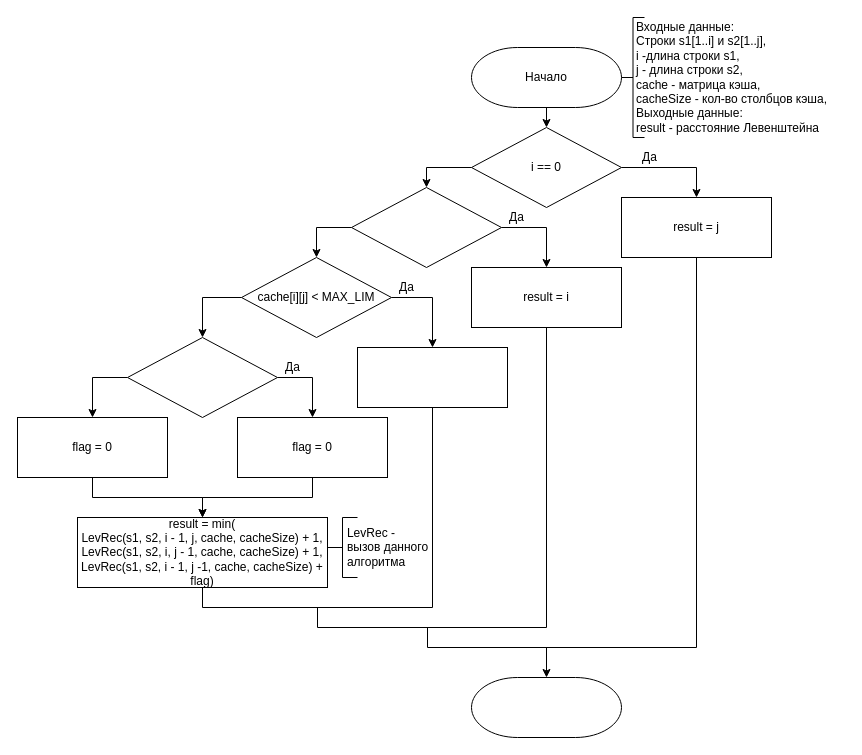
This 862x755 diagram has some shape labels left out. Each missing label, with the centre of its shape:
"j == 0" belongs at point (426, 227).
"result = cache[i][j]" belongs at point (432, 377).
"s1[m - 1] == s2[n - 1]" belongs at point (202, 377).
"Конец" belongs at point (546, 707).
